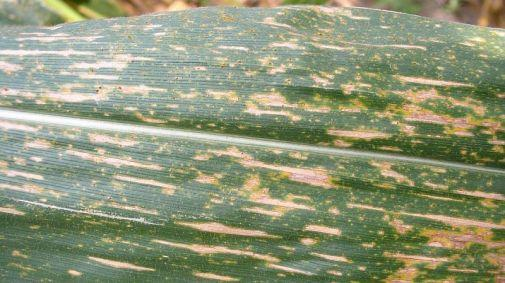Corn leaf blight: (4, 13, 504, 279)
